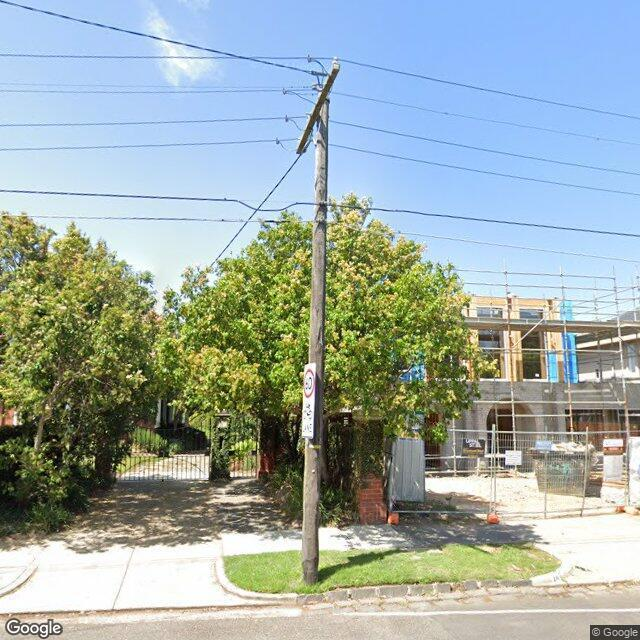crossarm: (276, 53, 340, 155)
timber-pole: (300, 97, 330, 582)
